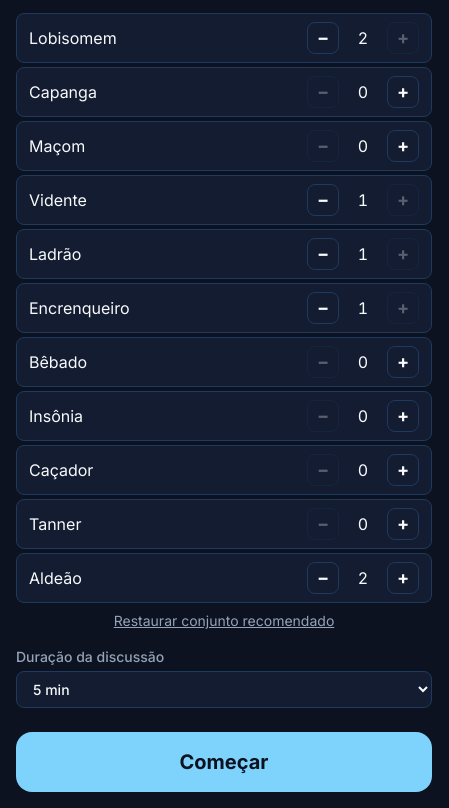
it: ConfigScreen › adding a card past the needed count disables "Começar"
(page scrolled)
Click the button named "adicionar aldeão" at coordinates (403, 578), box left=387, top=562, right=419, bottom=594
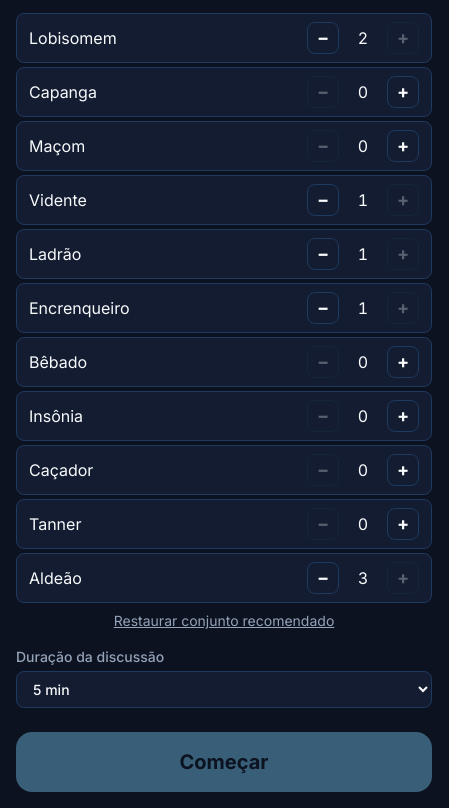
Check: the button "Começar" is disabled, box left=16, top=732, right=432, bottom=792
